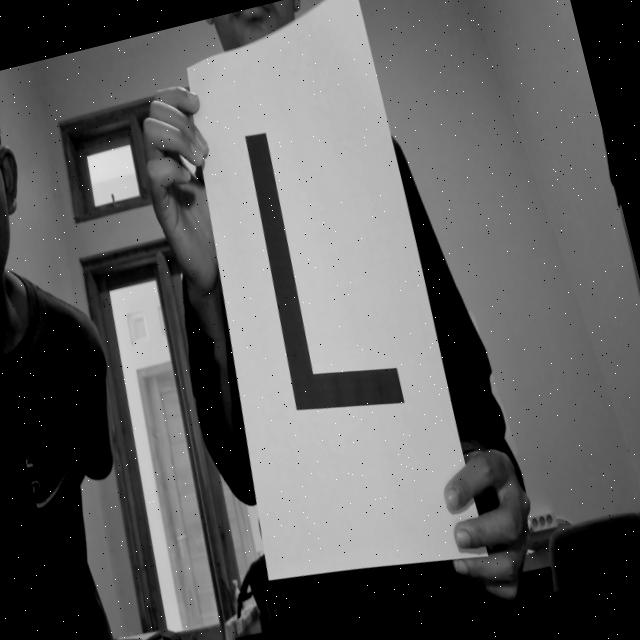l: (216, 100, 422, 454)
